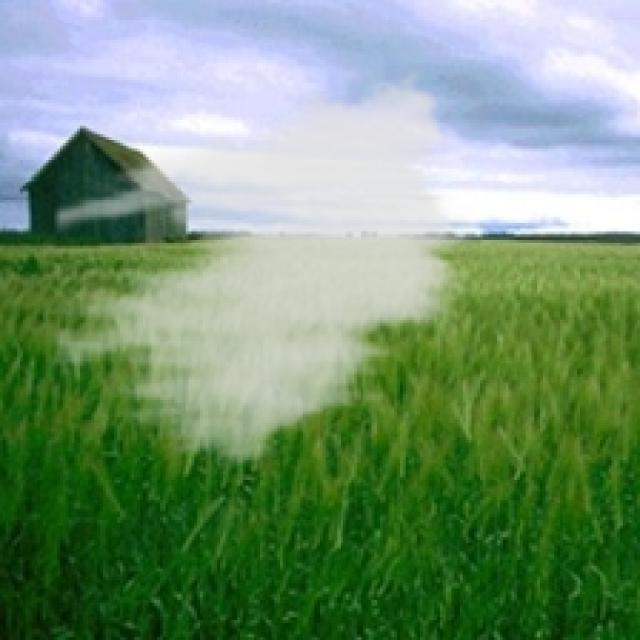smoke: (54, 60, 477, 477)
